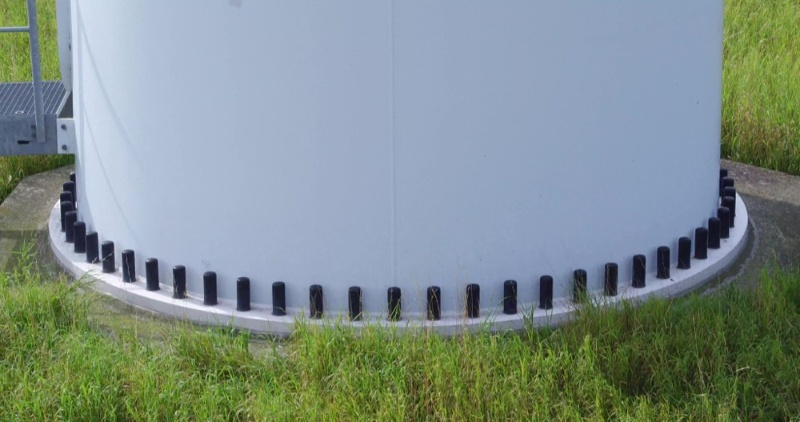weldseam: (383, 1, 404, 286)
